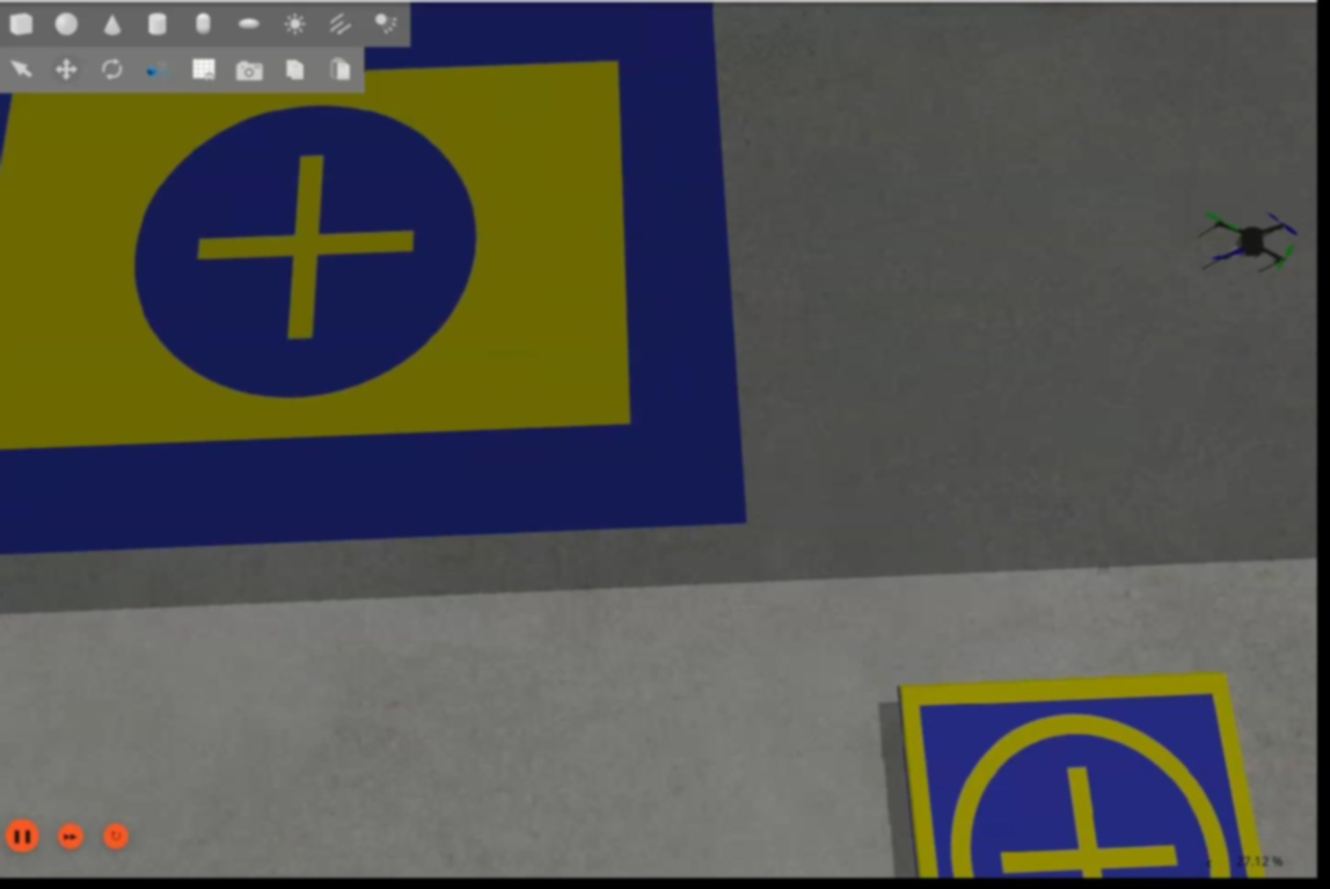large_base: (1, 1, 749, 554)
small_base: (897, 671, 1264, 878)
